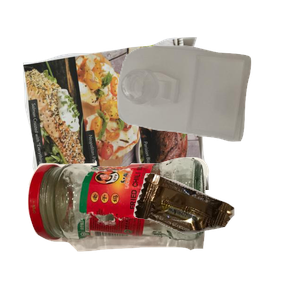glass: (25, 155, 227, 300)
paper: (20, 34, 221, 214)
plastic: (115, 43, 300, 177)
trash: (131, 171, 300, 300)
